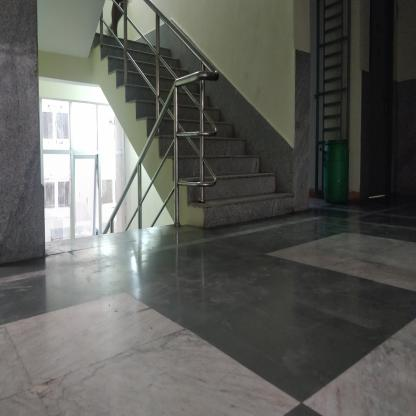stairs: (219, 135, 247, 228)
